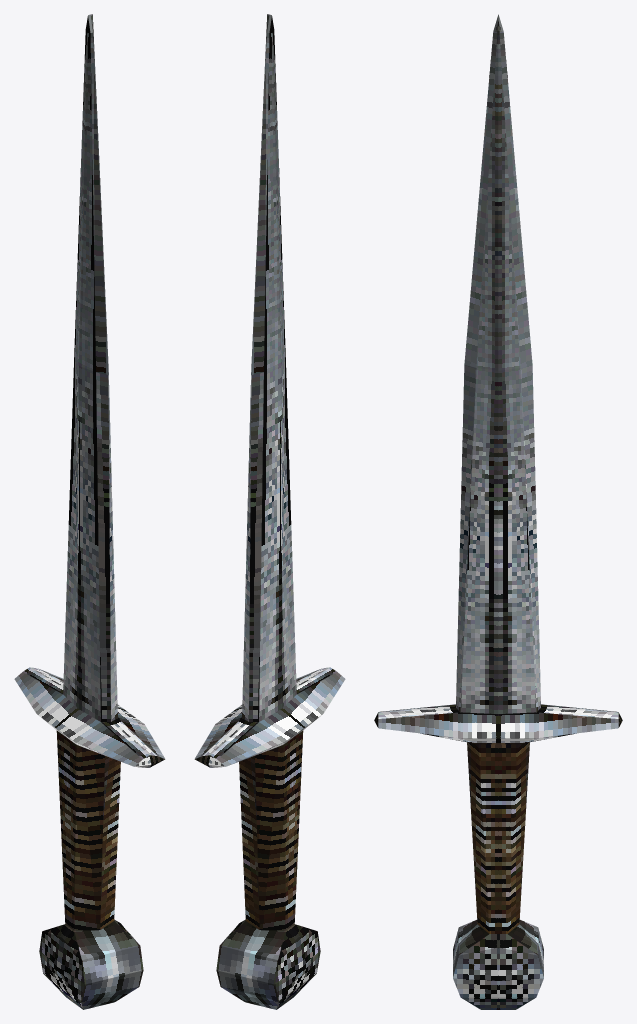
Rendered from shortsword.glb.
3 renders of one model, left to right at view 1: azimuth 30°, elevation 25°; view 2: azimuth 150°, elevation 25°; view 3: azimuth 270°, elevation 25°, orthographic.
Visible parts, largest first — view 1: Cube; view 2: Cube; view 3: Cube.
Boxes of the visible parts, x1,y1,x2,y2 form: Cube: (14, 14, 165, 1009); Cube: (194, 14, 345, 1009); Cube: (374, 14, 622, 1009).
Bounding box in the file's own units: 0.3398 × 4.54 × 1.04.
Materials: 1 (1 with a texture image).
